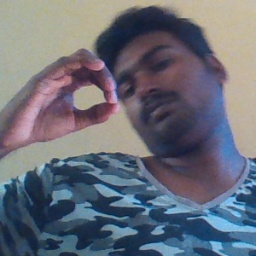O: (6, 46, 126, 144)
